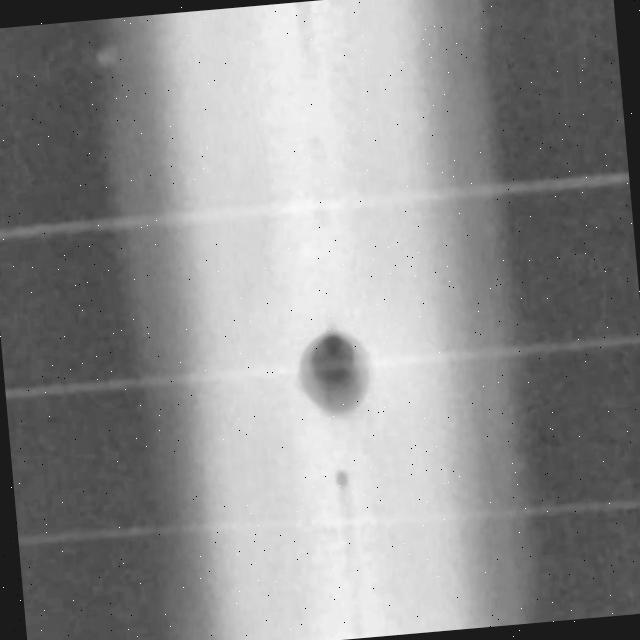LoP-LoF: (284, 0, 381, 639)
Pore: (275, 288, 396, 432)
